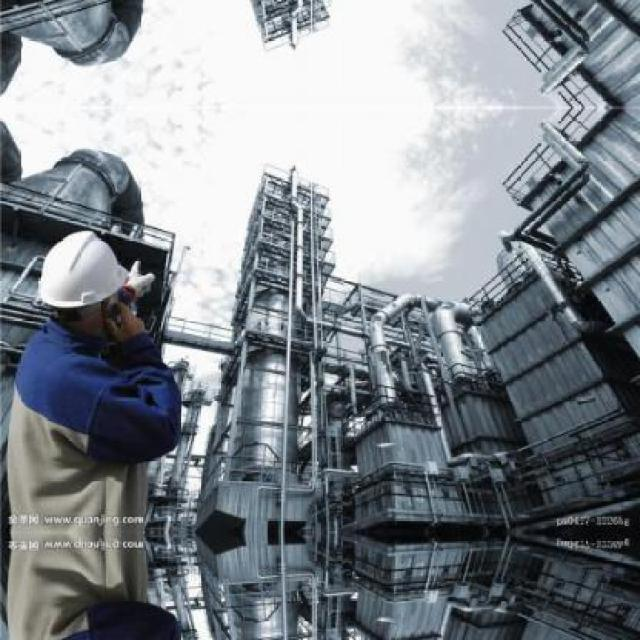helmet: (30, 221, 136, 342)
